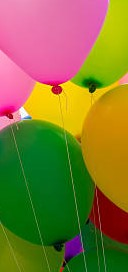Balloon: (1, 120, 95, 243), (1, 1, 108, 87), (81, 85, 128, 211)
